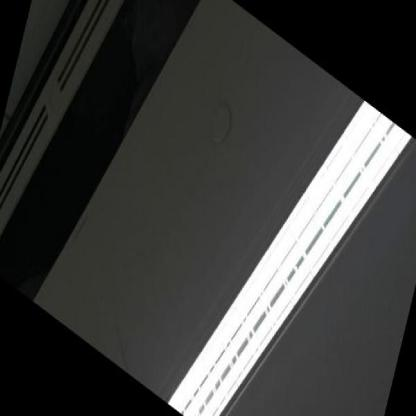light_on: (156, 12, 415, 415)
